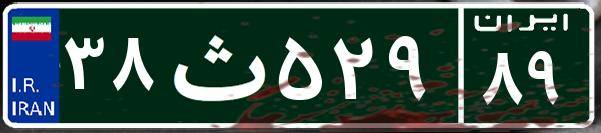2: (330, 28, 385, 110)
3: (57, 26, 110, 107)
5: (273, 28, 330, 110)
8: (475, 38, 525, 113), (110, 28, 158, 105)
9: (385, 28, 445, 110), (525, 38, 570, 115)
ث: (158, 15, 273, 115)
